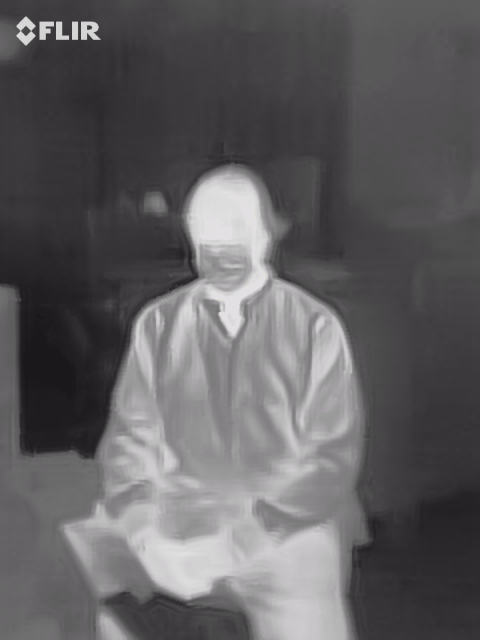head: (179, 164, 291, 292)
